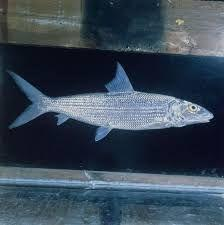Tenpounder: (6, 67, 215, 141)
